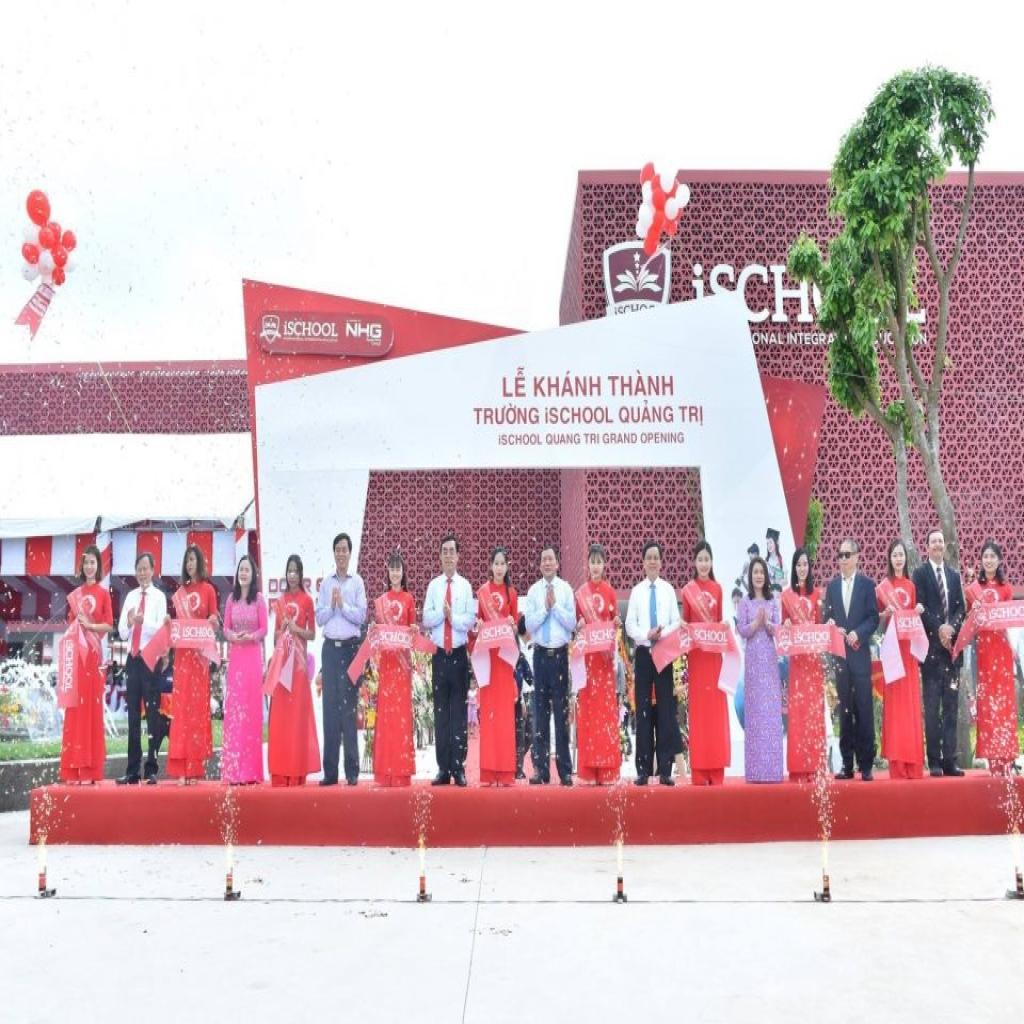text: (735, 262, 815, 328), (606, 366, 676, 400), (533, 368, 604, 400), (471, 400, 541, 429), (617, 397, 675, 427), (544, 405, 617, 427), (283, 320, 340, 339), (500, 363, 528, 400), (379, 627, 415, 651), (639, 430, 686, 448), (784, 330, 829, 348), (676, 404, 706, 430), (497, 432, 545, 448), (793, 629, 835, 646), (344, 322, 383, 340), (692, 627, 731, 645), (602, 430, 639, 448), (751, 331, 786, 349), (480, 624, 515, 642), (544, 432, 582, 448), (894, 613, 926, 632), (588, 627, 618, 645), (64, 648, 75, 696), (180, 626, 216, 640), (582, 430, 602, 448), (268, 576, 280, 597)
